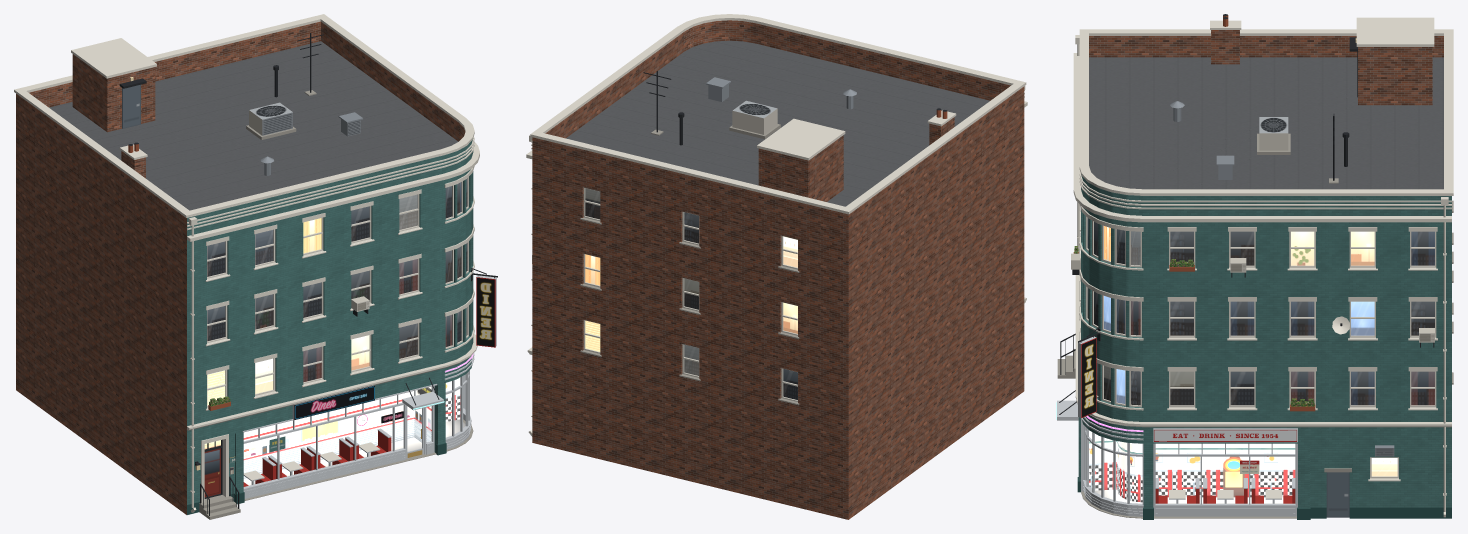
The model's file is CornerDiner.fbx.
3 views of the same model, side by side, from view 1: azimuth 30°, elevation 25°; view 2: azimuth 150°, elevation 25°; view 3: azimuth 270°, elevation 25° (orthographic). The views are drawn at different scales.
Parts seen in each view (by area): view 1: CornerDiner_Mesh; view 2: CornerDiner_Mesh; view 3: CornerDiner_Mesh.
Boxes of the visible parts, <box> form: CornerDiner_Mesh: <box>14,14,497,519</box>; CornerDiner_Mesh: <box>526,14,1027,519</box>; CornerDiner_Mesh: <box>1056,14,1453,519</box>.
Bounding box in the file's own units: 16.9 × 16.8 × 16.5.
